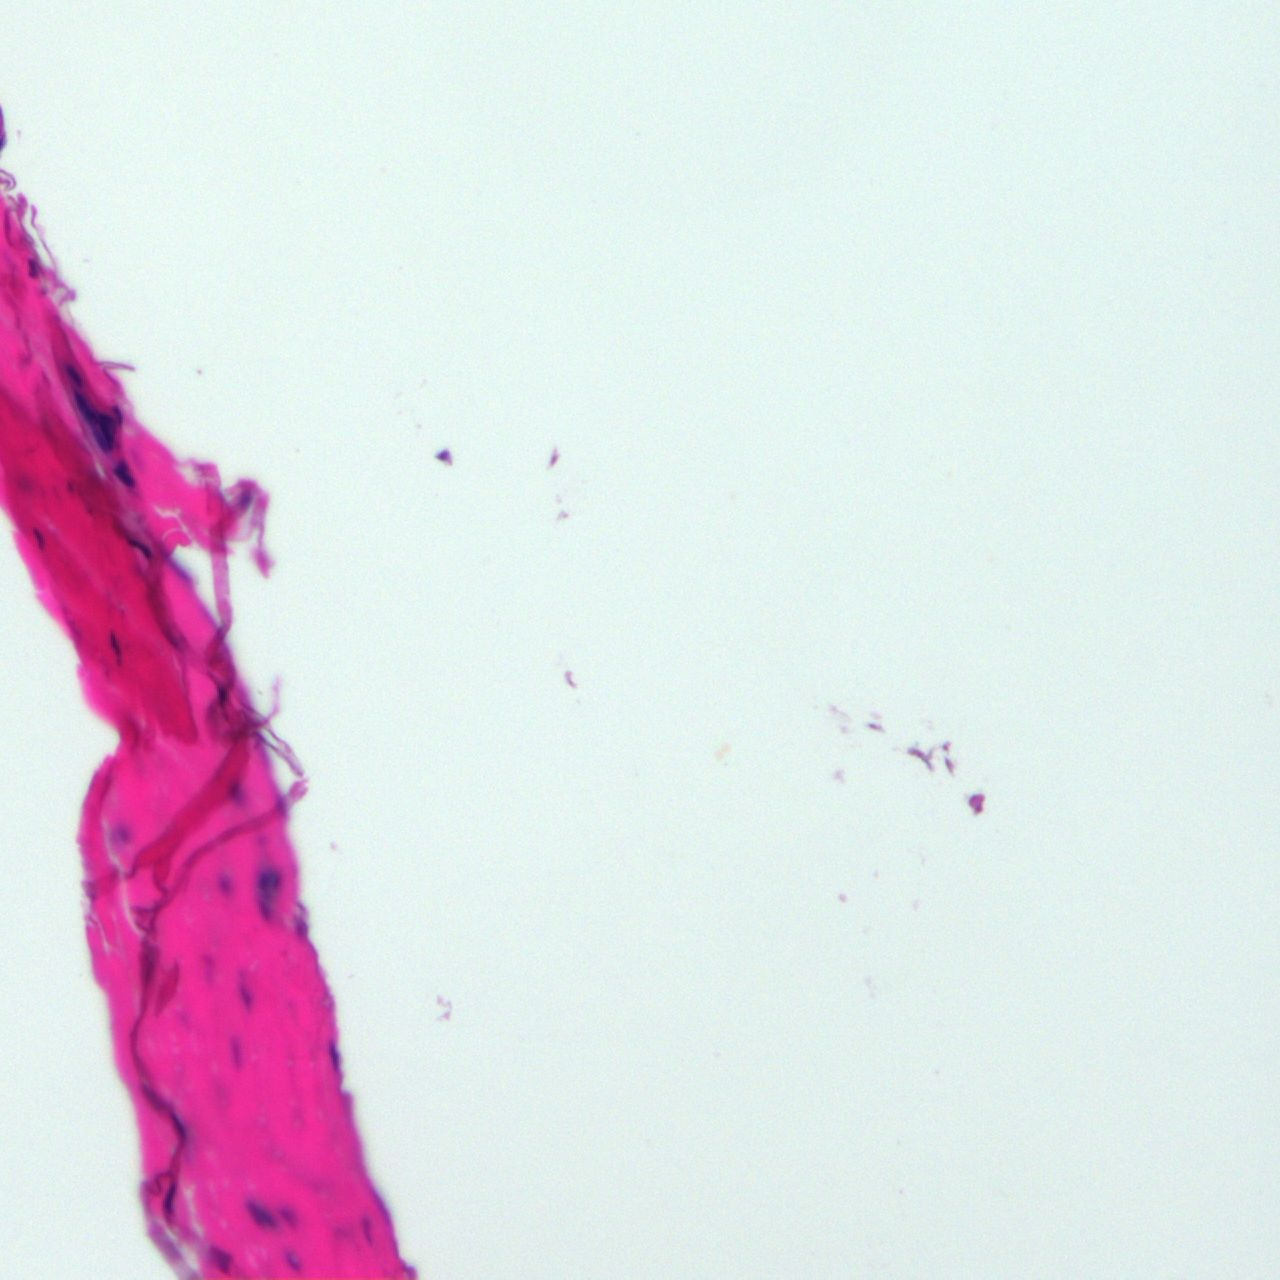nucleus-HE: (239, 1192, 284, 1239), (253, 863, 282, 915), (69, 388, 100, 424), (123, 530, 156, 561), (231, 978, 257, 1017), (281, 1247, 311, 1276), (166, 1108, 191, 1141), (275, 1203, 302, 1231), (105, 629, 125, 663), (96, 411, 114, 448), (113, 462, 136, 486), (163, 1183, 178, 1219), (324, 1040, 342, 1069), (229, 1035, 241, 1070), (217, 870, 234, 894), (66, 365, 86, 384), (229, 776, 244, 802), (294, 914, 308, 940), (111, 403, 127, 425), (216, 1250, 231, 1269), (216, 685, 229, 707), (363, 1217, 373, 1246), (32, 527, 43, 549), (27, 256, 38, 279)
